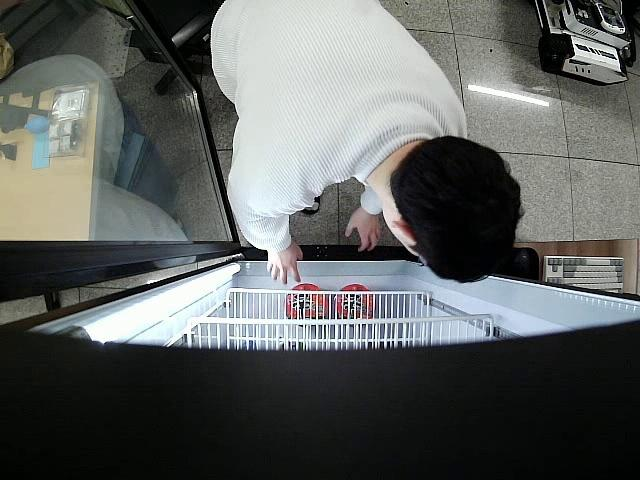00_hand: (342, 204, 382, 255), (266, 240, 305, 284)
